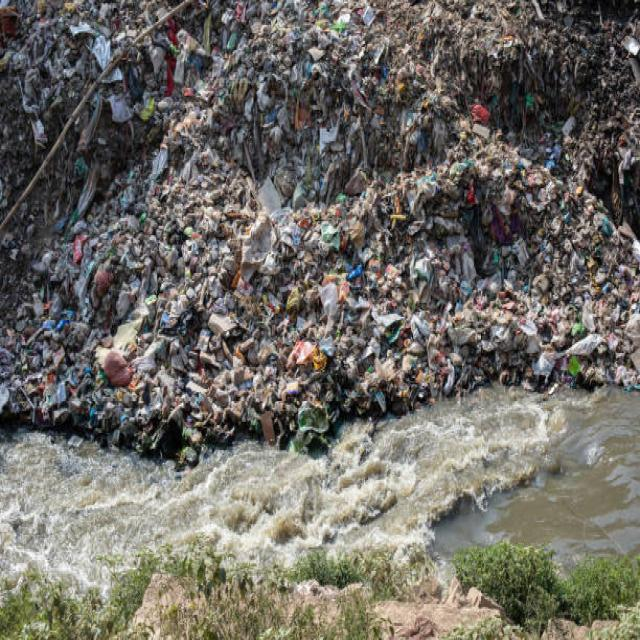trash: (48, 42, 604, 389)
